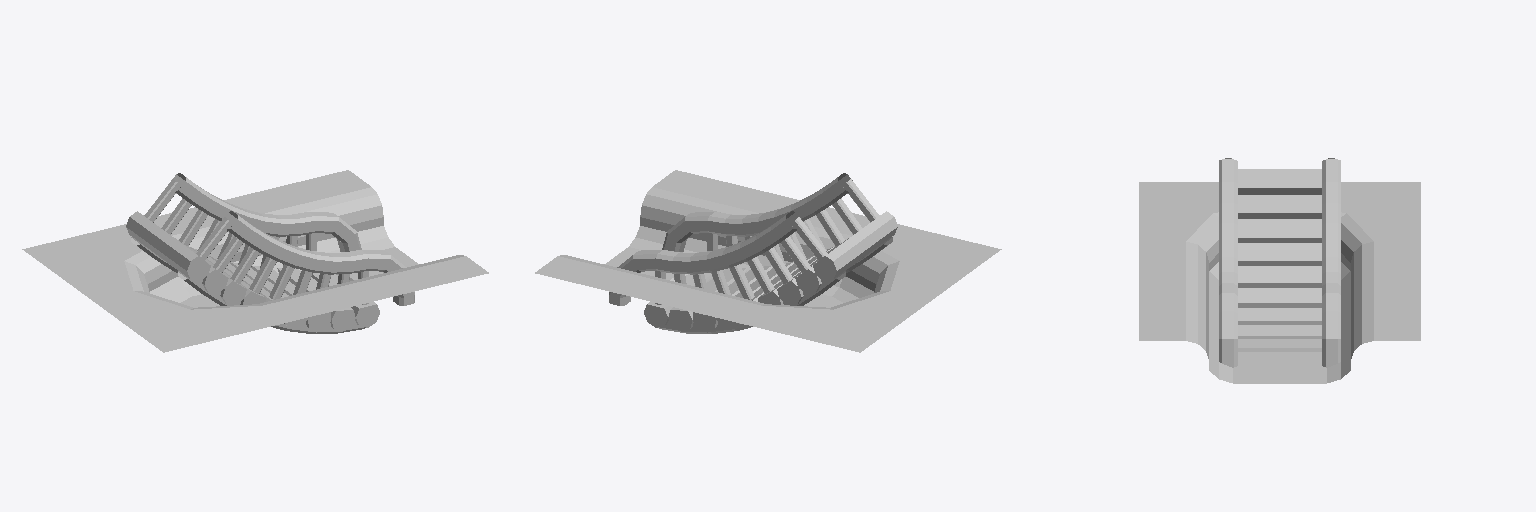
File: Track_Bridge_Start_Flat_to_Sharp.obj
The picture shows the model from 3 angles: view 1: azimuth 30°, elevation 25°; view 2: azimuth 150°, elevation 25°; view 3: azimuth 270°, elevation 25°; orthographic projection.
Parts seen in each view (by area): view 1: Grass, Bridge_Rail, Bridge_Rail_Support, Log_Plank_End, Dirt, Log_Plank_Bark, Log_Plank_Top, Bridge_Support_Beam; view 2: Grass, Bridge_Rail, Bridge_Rail_Support, Log_Plank_End, Dirt, Log_Plank_Bark, Log_Plank_Top, Bridge_Support_Beam; view 3: Grass, Log_Plank_Top, Bridge_Rail, Dirt, Log_Plank_Bark.
Part boxes in pixels (x1,y1,x2,y2): Grass: (22,170,488,352); Bridge_Rail: (171,173,414,305); Bridge_Rail_Support: (144,179,368,304); Log_Plank_End: (187,256,379,332); Dirt: (150,226,418,307); Log_Plank_Bark: (126,211,358,328); Log_Plank_Top: (175,238,375,310); Bridge_Support_Beam: (131,237,365,333); Grass: (535,170,1001,352); Bridge_Rail: (609,173,852,305); Bridge_Rail_Support: (655,179,879,304); Log_Plank_End: (644,256,836,332); Dirt: (605,226,873,307); Log_Plank_Bark: (665,211,897,328); Log_Plank_Top: (648,238,848,310); Bridge_Support_Beam: (658,237,892,333); Grass: (1139,182,1420,358); Log_Plank_Top: (1238,169,1321,347); Bridge_Rail: (1219,159,1340,367); Dirt: (1209,262,1350,383); Log_Plank_Bark: (1238,188,1321,351).
Bounding box in the file's own units: 4 × 1.72 × 3.